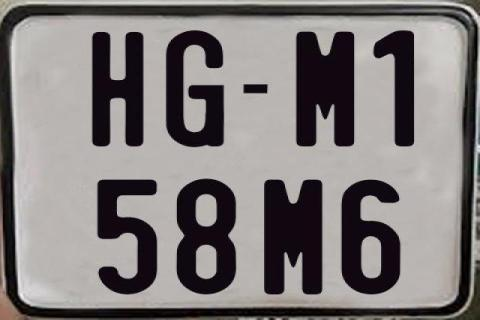0: (339, 177, 403, 295), (94, 177, 158, 293), (174, 179, 236, 297), (372, 31, 415, 151)
G: (164, 28, 228, 147)
H: (90, 31, 142, 149)
M: (263, 177, 323, 296), (294, 29, 353, 144)
